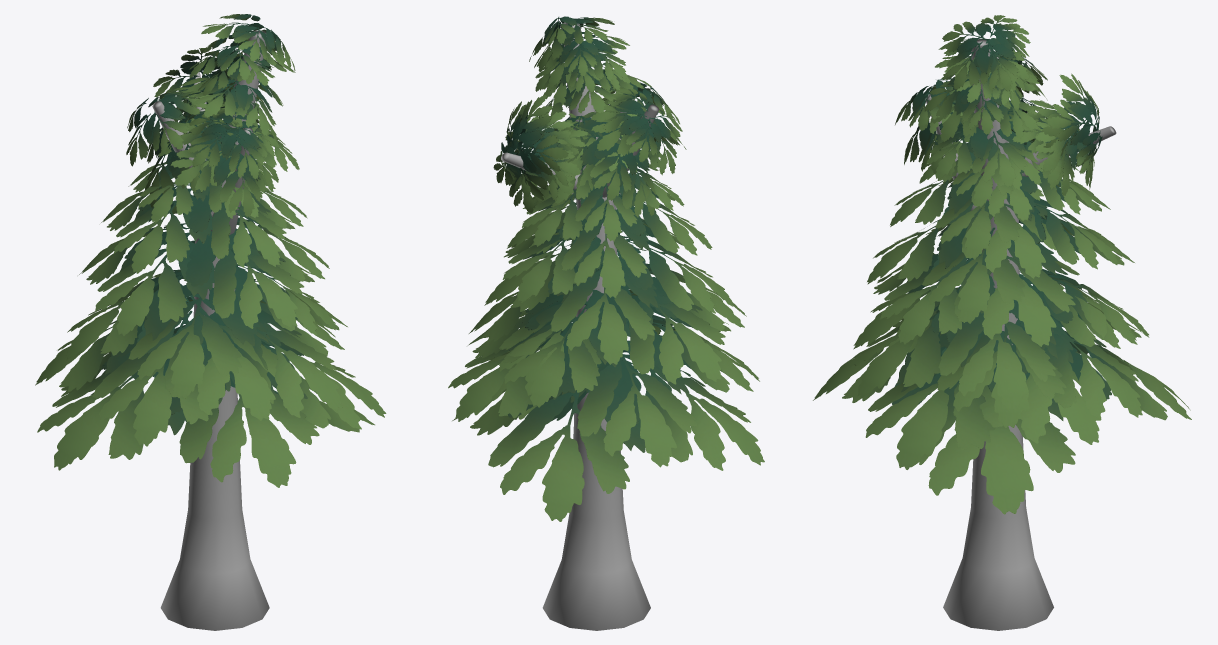
File: PineTree.fbx
3 views of the same model, side by side, from view 1: azimuth 30°, elevation 25°; view 2: azimuth 150°, elevation 25°; view 3: azimuth 270°, elevation 25° (orthographic). The views are drawn at different scales.
Visible parts, largest first — view 1: PineLeavesOriginal20, PineTree; view 2: PineLeavesOriginal20, PineTree; view 3: PineLeavesOriginal20, PineTree.
Boxes of the visible parts, x1,y1,x2,y2 form: PineLeavesOriginal20: [35, 14, 386, 487]; PineTree: [152, 30, 269, 630]; PineLeavesOriginal20: [448, 16, 764, 521]; PineTree: [501, 22, 659, 630]; PineLeavesOriginal20: [813, 15, 1191, 514]; PineTree: [925, 39, 1116, 630].
Size of the model in its own units: 47.43 by 84.77 by 51.27.
